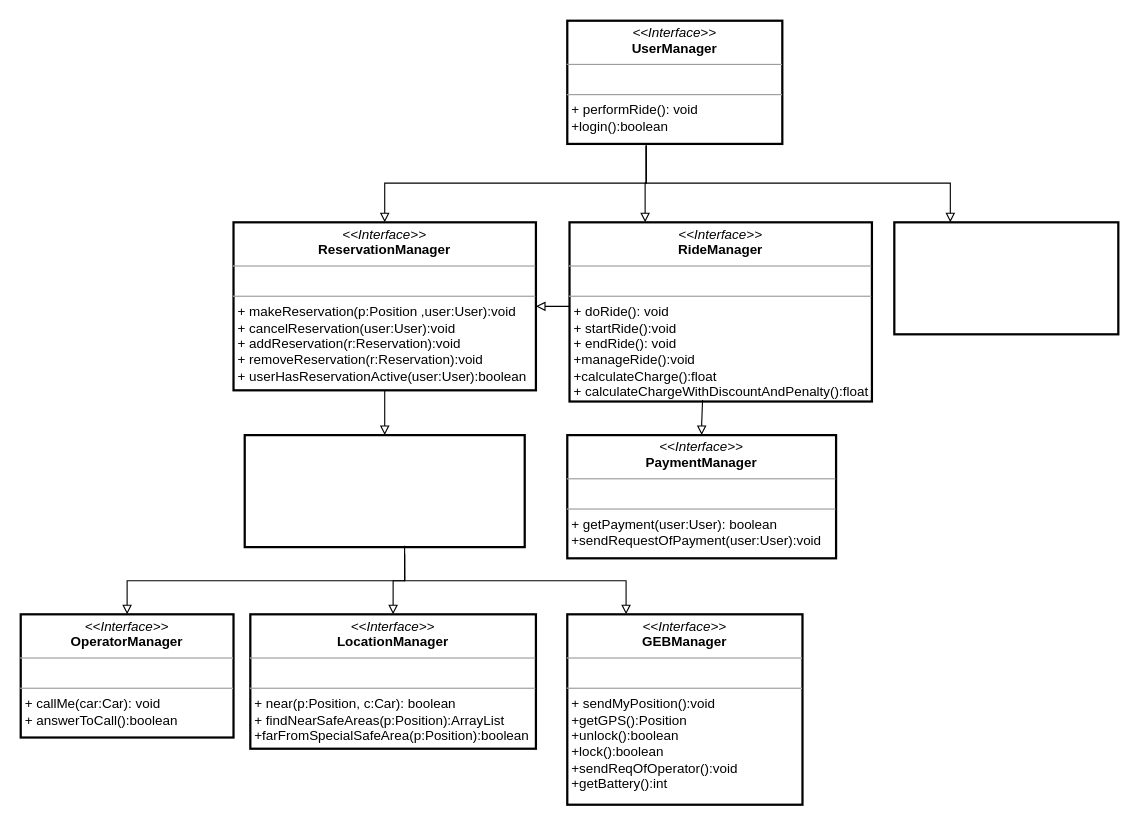
This 1138x824 diagram has some shape labels left out. The shapes that lost their labels are listed below. From the top down, each one's box as (x1, y1, x2, y2) in pixels, then its label:
(893, 221, 1119, 335): <<Interface>> DrivingLicenseManager + checkLicense(user:User): boolean
(243, 433, 525, 548): <<Interface>> CarManager + findReservableCars(p:Position): ArrayList
